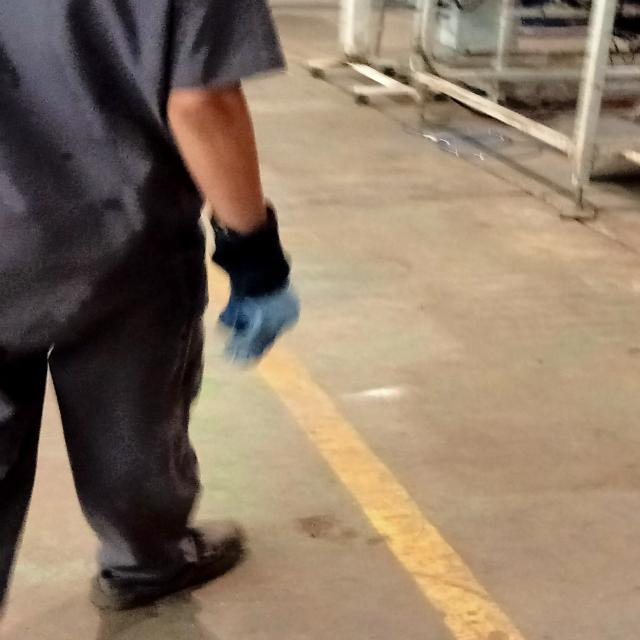Gloves-Detection: (200, 208, 323, 363)
